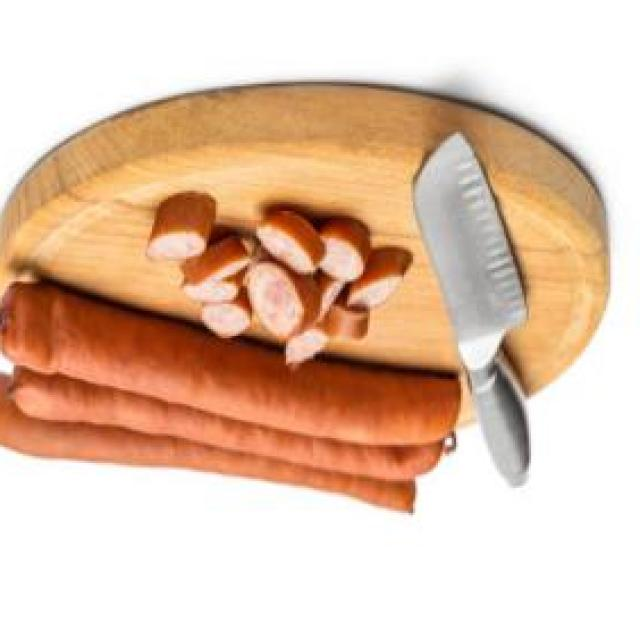knife: (411, 129, 531, 495)
